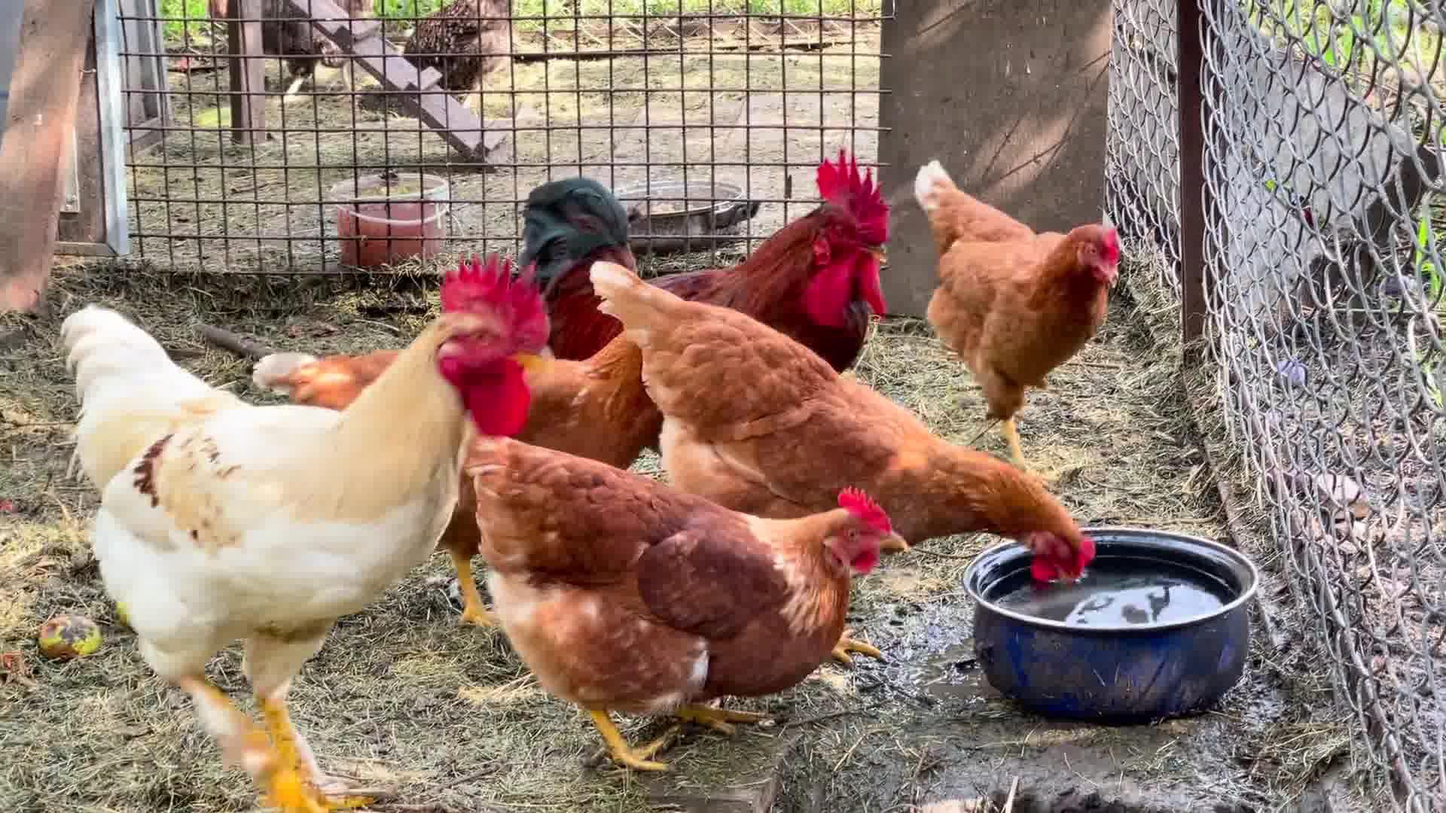Normal: (27, 258, 546, 789), (584, 256, 1097, 596), (471, 439, 917, 777), (285, 315, 677, 636), (531, 149, 903, 417), (912, 153, 1146, 483)
